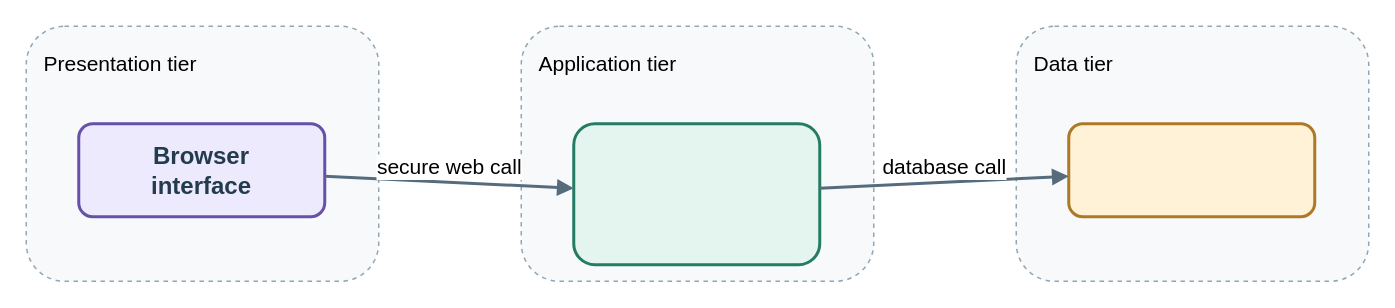
This 1395x308 diagram has some shape labels left out. The shapes that lost their labels are listed below. From the top down, each one's centre as x and y in pixels, then its label:
At [1191,170]: "Database server".
At [696,194]: "Application server Business logic + persistence".
